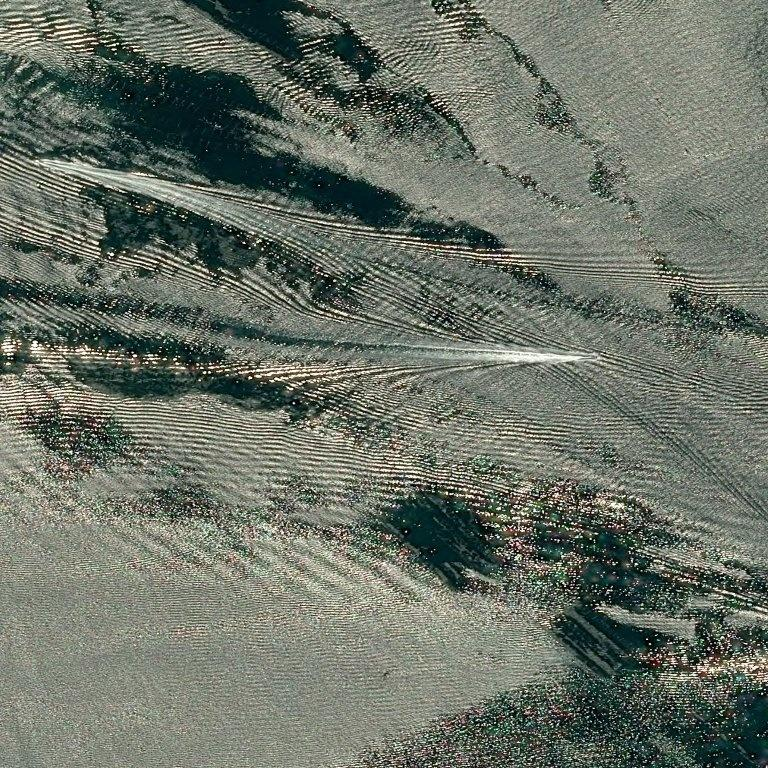ship: (0, 159, 8, 164), (586, 358, 597, 358)
